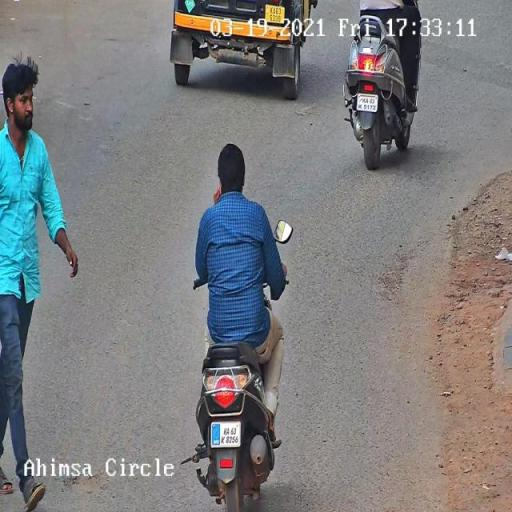numberplate: (210, 422, 242, 448)
using mobile: (214, 172, 225, 200)
